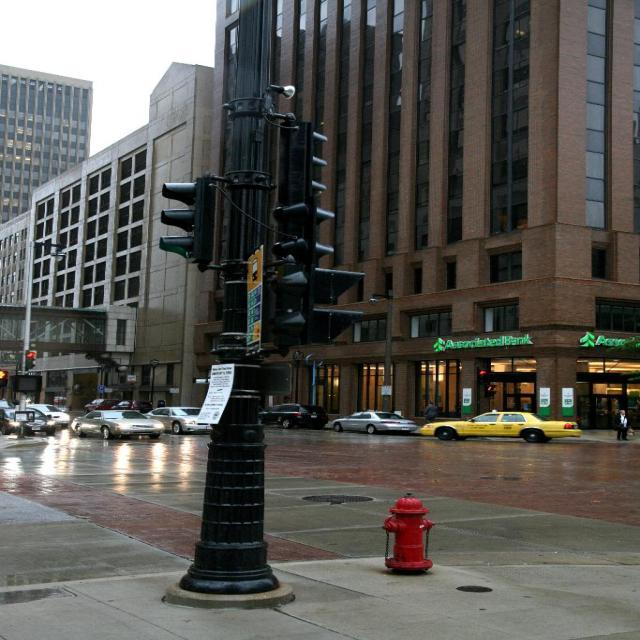off traffic light: (299, 265, 368, 344), (157, 176, 217, 264), (278, 122, 328, 203), (272, 202, 337, 263)
